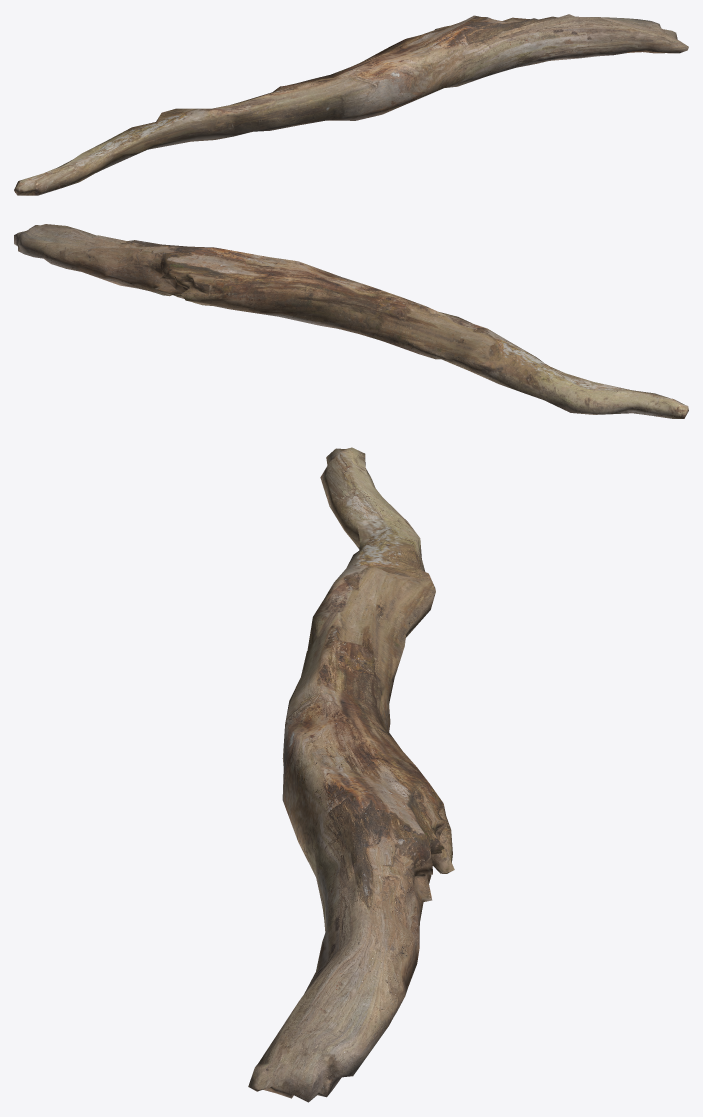
Rendered from SM_Debris_07_01.fbx.
The picture shows the model from 3 angles, top to bottom: view 1: azimuth 30°, elevation 25°; view 2: azimuth 150°, elevation 25°; view 3: azimuth 270°, elevation 25°; orthographic projection. The views are drawn at different scales.
Visible parts, largest first — view 1: sm_Debris_07_01_LOD0; view 2: sm_Debris_07_01_LOD0; view 3: sm_Debris_07_01_LOD0.
Part boxes in pixels (left/top/right/bottom): sm_Debris_07_01_LOD0: left=14, top=14, right=688, bottom=195; sm_Debris_07_01_LOD0: left=14, top=224, right=688, bottom=418; sm_Debris_07_01_LOD0: left=248, top=447, right=454, bottom=1102.
Size of the model in its own units: 12.73 by 92.91 by 8.12.
